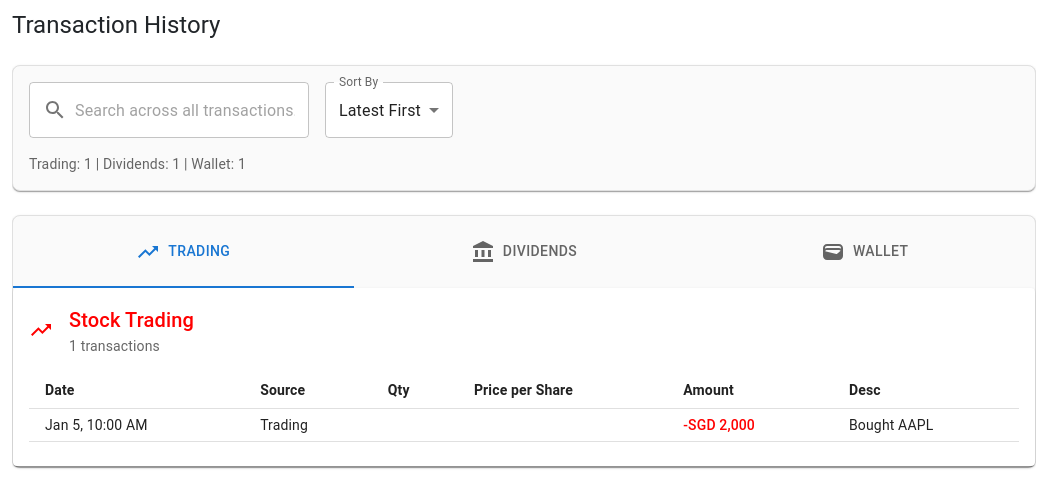
Test: ClientTransactionTable › switches tabs to Dividends
Click the tab "Dividends" at [524, 252], box x1=354 y1=216 x2=694 y2=288
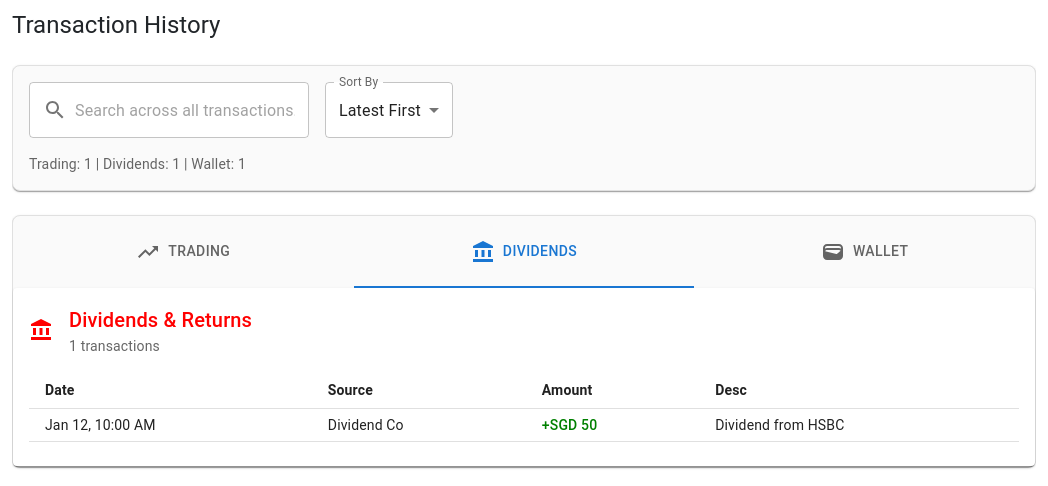
Check: the text "+SGD 50" is shown, box x1=542 y1=417 x2=597 y2=433
